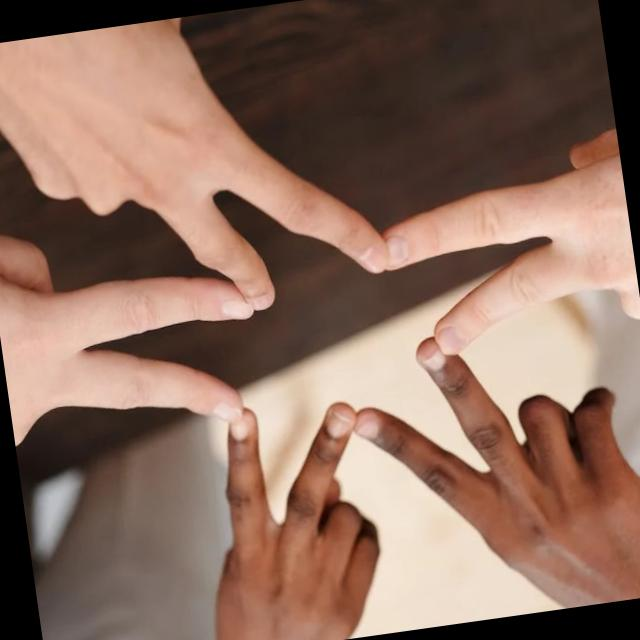Nail: (434, 324, 466, 354), (354, 243, 385, 271), (418, 342, 446, 373), (325, 408, 352, 439), (383, 233, 408, 265), (228, 411, 252, 440), (210, 401, 240, 422), (218, 299, 251, 317), (245, 287, 271, 308), (353, 419, 379, 439)
